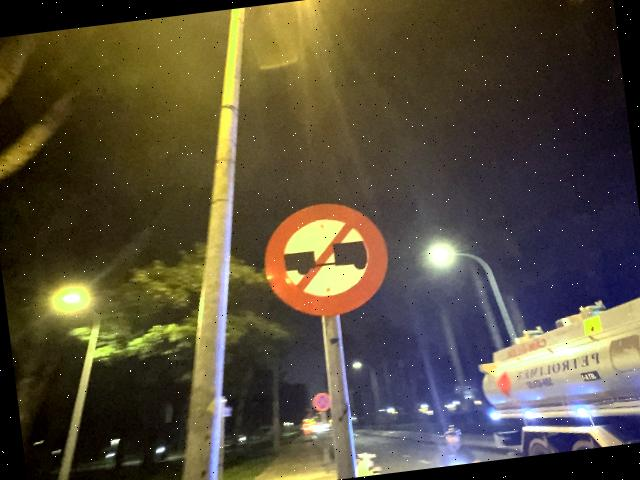cam-xe-somi-romooc: (256, 195, 394, 324)
